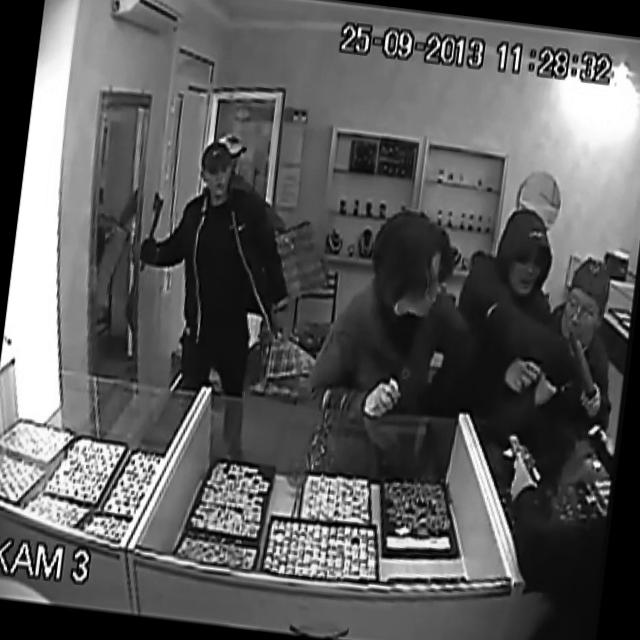gun: (529, 320, 598, 410), (131, 184, 177, 286)
person: (349, 214, 474, 356), (556, 248, 612, 349)
person with a gun: (127, 126, 316, 394), (447, 190, 607, 444)
